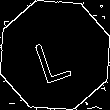L_N: (32, 26, 78, 84)
